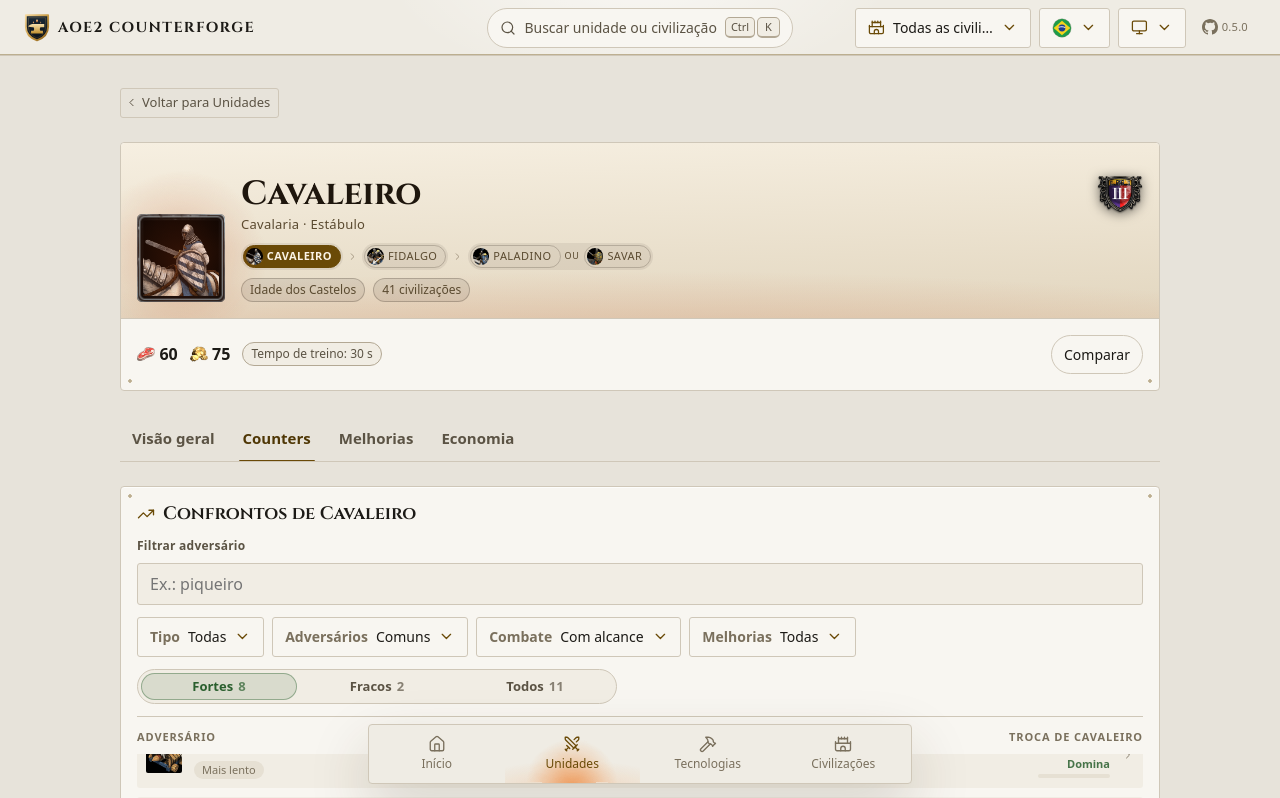
App › unfolds a matchup in place with a shortcut to the opponent
(page scrolled)
Click the button "Fracos2".
click(377, 686)  # box [299,673,455,700]
(page scrolled)
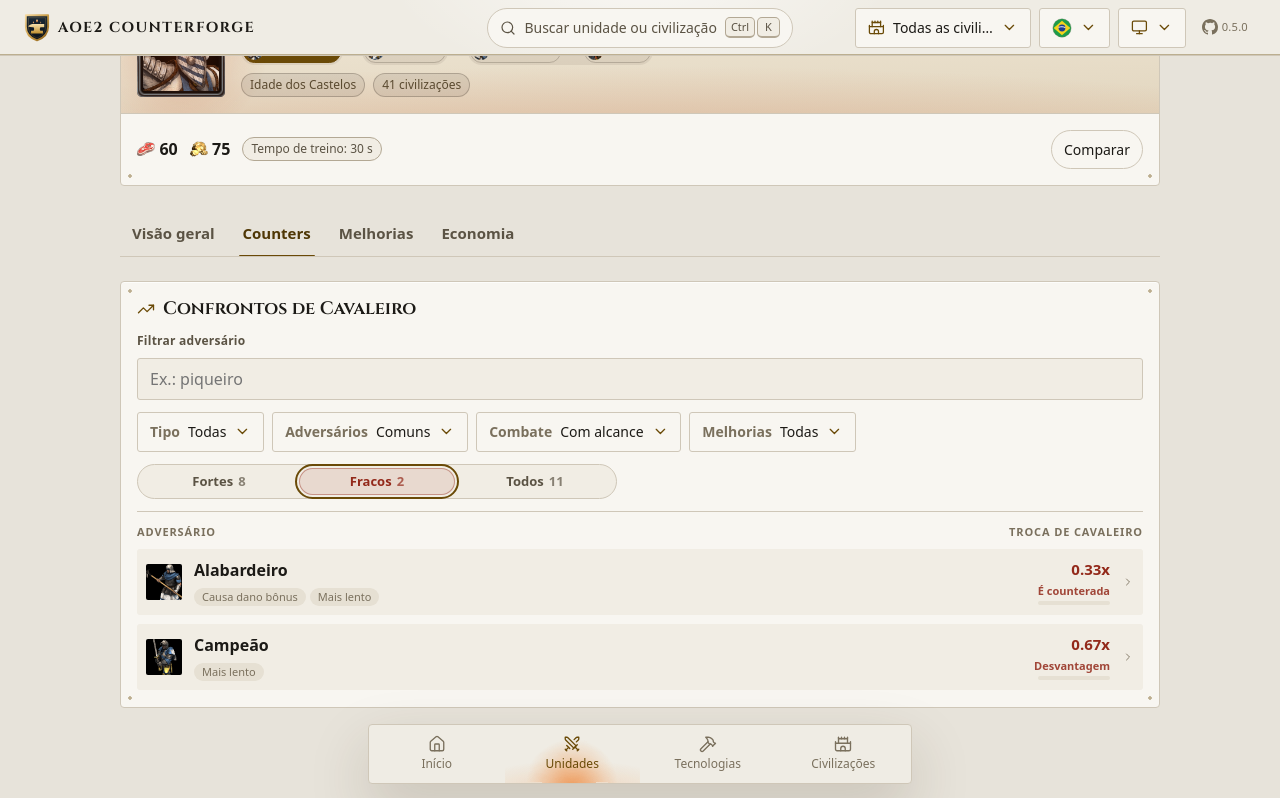
Click the button "Alabardeiro Causa dano bônus Mais lento 0.33x É counterada".
click(164, 582)  # box [138,550,1142,614]
(page scrolled)
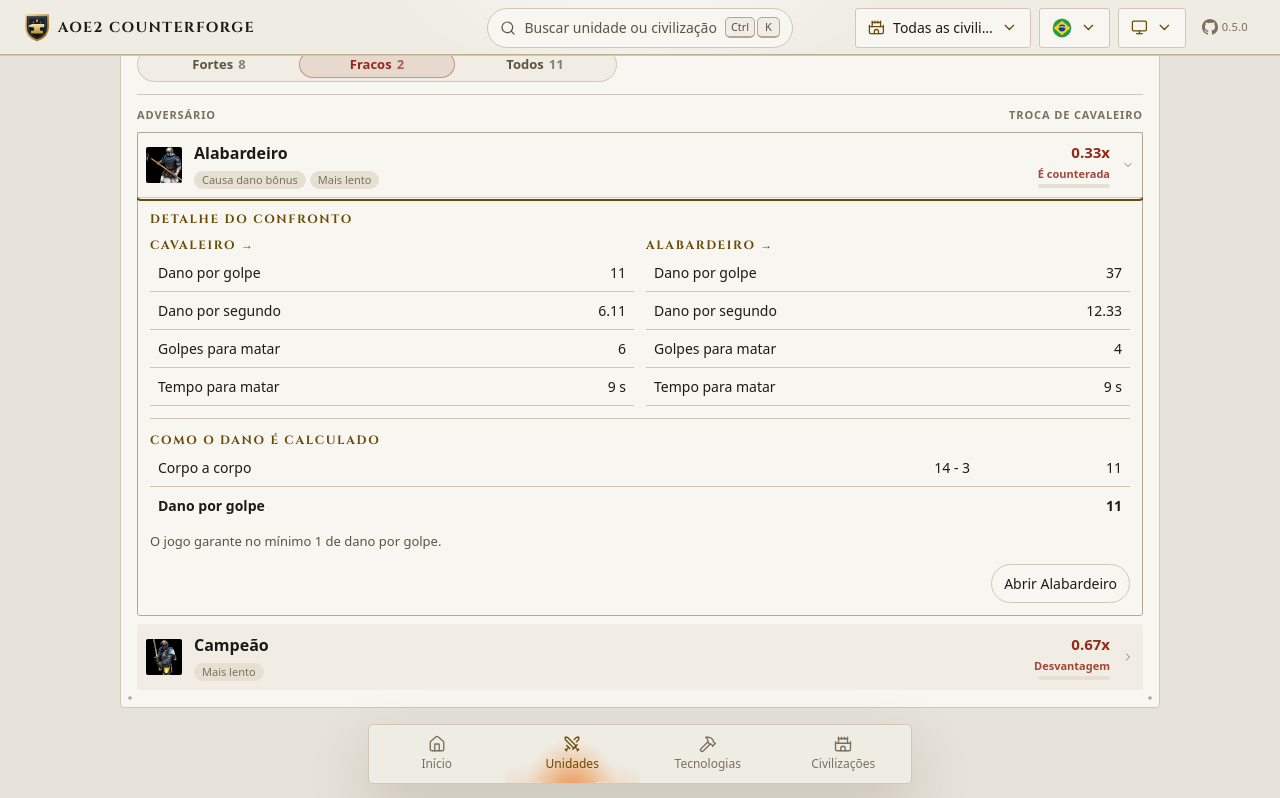
Result: the link "Abrir Alabardeiro" is shown at [991,564,1130,603]
